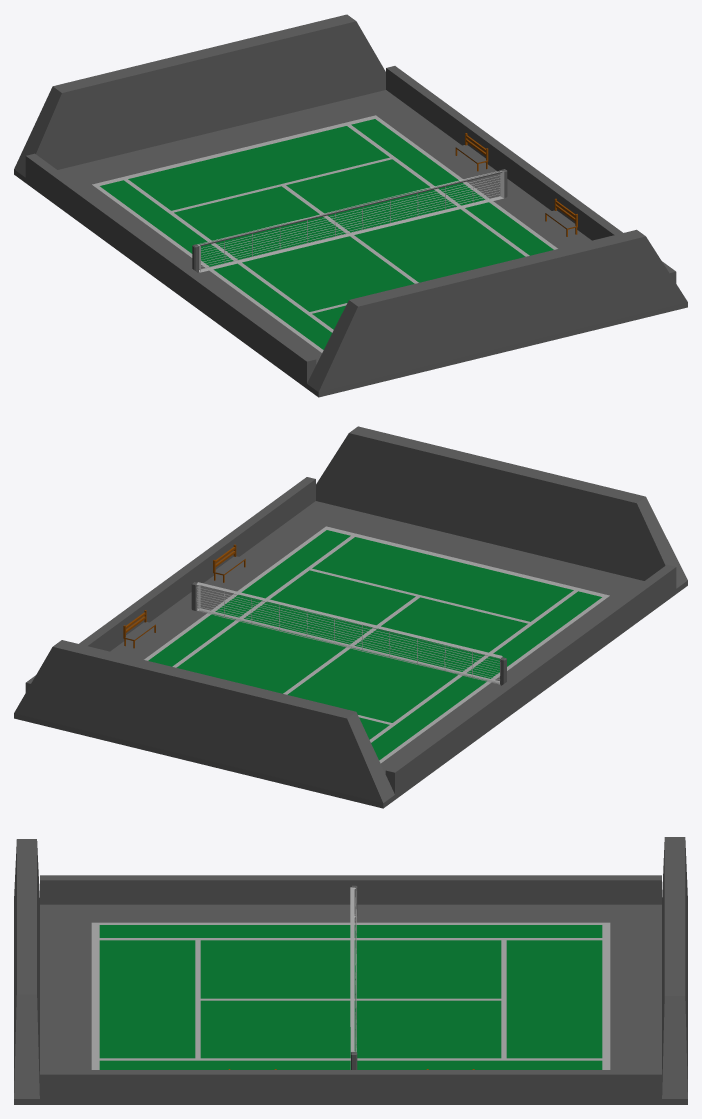
The model's file is tennis_stadium2.glb.
3 renders of one model, top to bottom at view 1: azimuth 30°, elevation 25°; view 2: azimuth 150°, elevation 25°; view 3: azimuth 270°, elevation 25°, orthographic. The views are drawn at different scales.
Parts seen in each view (by area): view 1: TENNIS STADIUM2_COLOR.003_0; view 2: TENNIS STADIUM2_COLOR.003_0; view 3: TENNIS STADIUM2_COLOR.003_0.
Part boxes in pixels (left/top/right/bottom): TENNIS STADIUM2_COLOR.003_0: left=14, top=14, right=687, bottom=397; TENNIS STADIUM2_COLOR.003_0: left=14, top=426, right=687, bottom=808; TENNIS STADIUM2_COLOR.003_0: left=14, top=837, right=687, bottom=1104.
Bounding box in the file's own units: 4.04 × 0.8371 × 5.78.
Materials: 1 (1 with a texture image).
